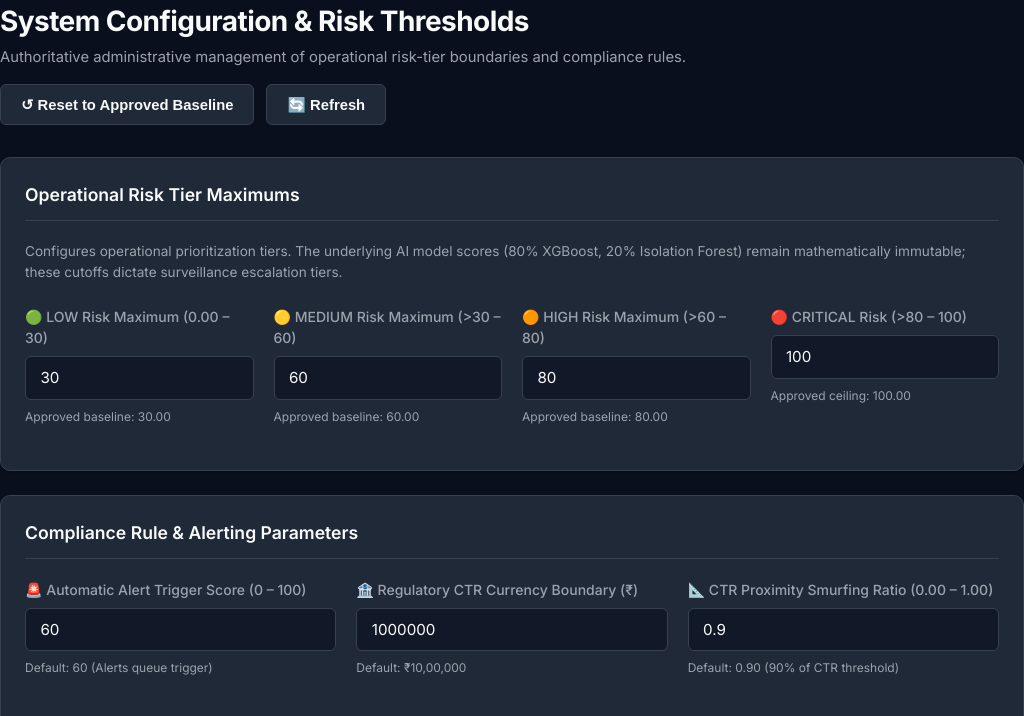
Test case: Configuration Page Component Tests › prompts confirmation and resets configuration back to baseline
The width and height of the screenshot is (1024, 716).
Click Reset
Click the button "↺ Reset to Approved Baseline". click: (127, 105)
box: [0,84,254,125]
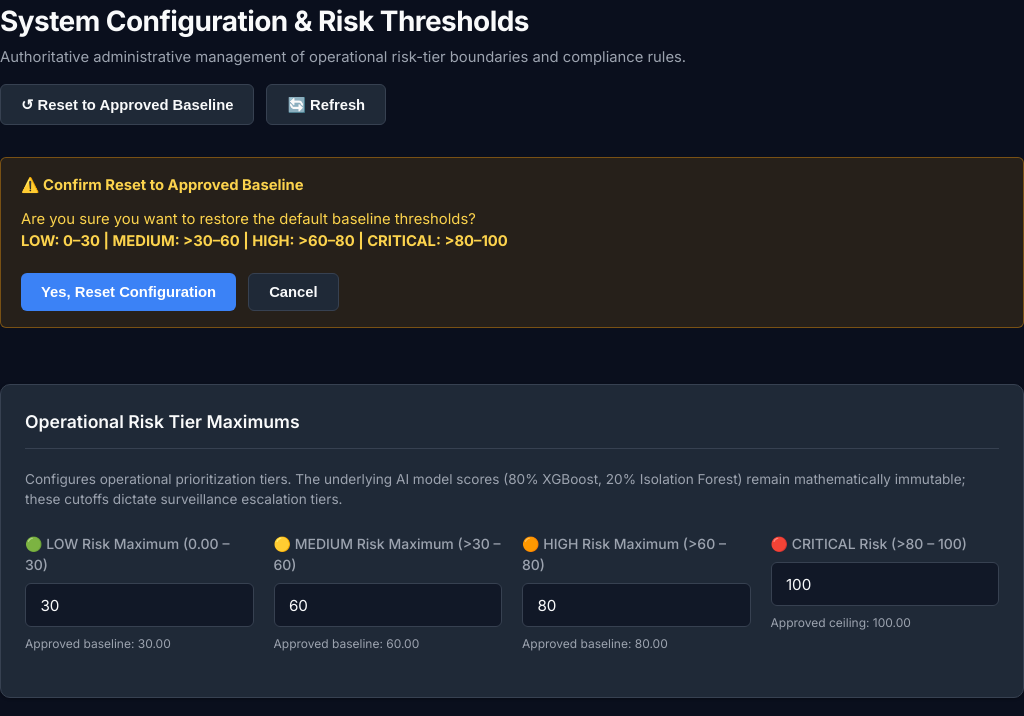
Check: the text "⚠️ Confirm Reset to Approved Baseline" is shown, box [21,174,304,196]
Click confirm
Click the button "Yes, Reset Configuration". click: (129, 292)
box: [21,272,236,311]
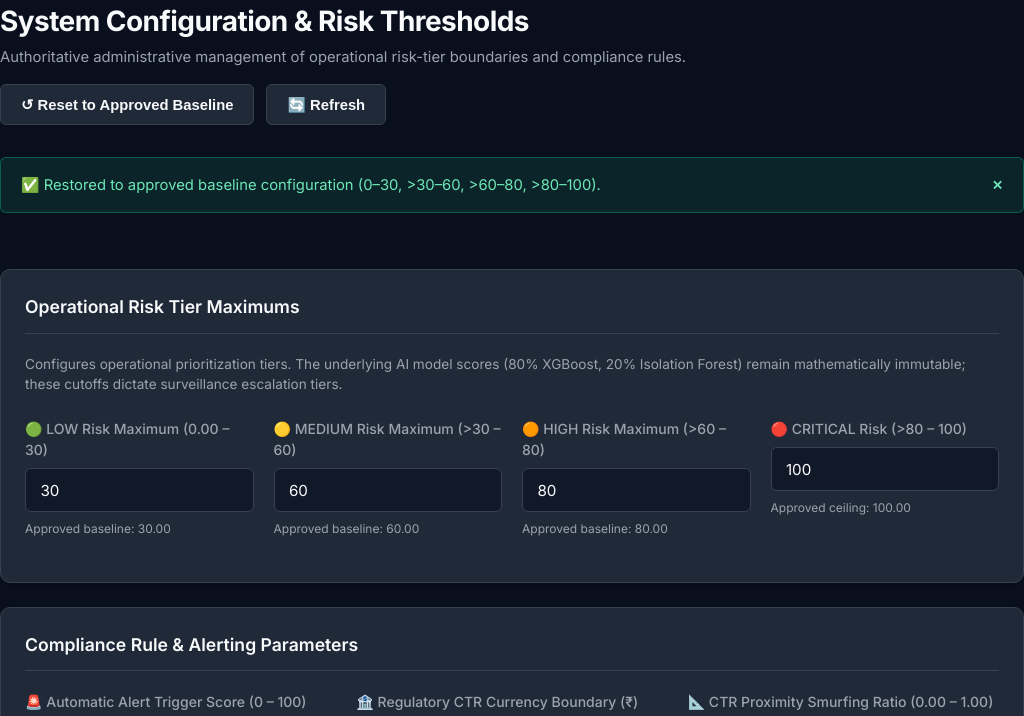
Check: the text "Restored to approved baseline configuration" is shown, box [44,176,601,194]
